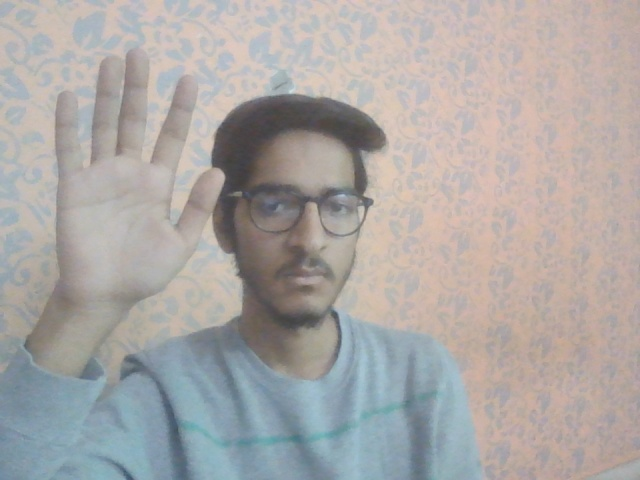Hello: (47, 42, 231, 308)
